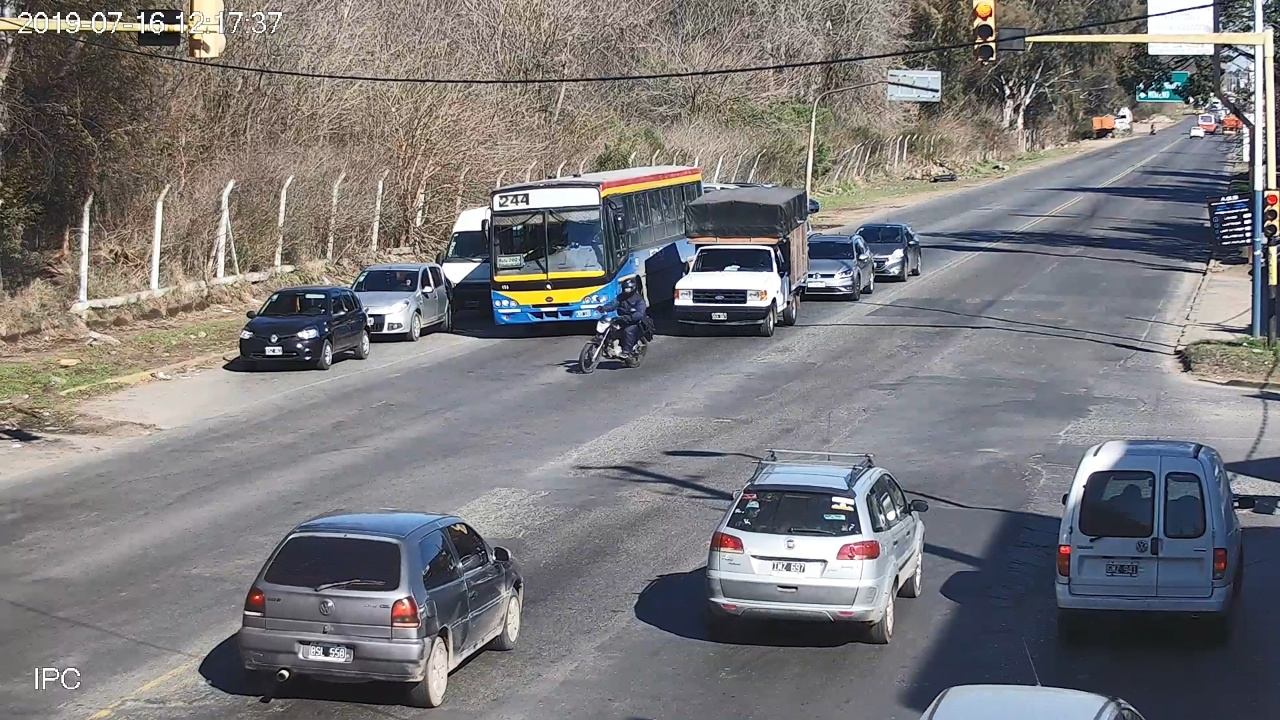car: (238, 512, 524, 707), (705, 461, 928, 644), (1054, 440, 1255, 642), (913, 680, 1147, 720)
front car: (240, 286, 370, 369)
front motorcycle: (579, 296, 655, 371)
traffic light: (974, 1, 995, 60), (1264, 190, 1278, 238)
